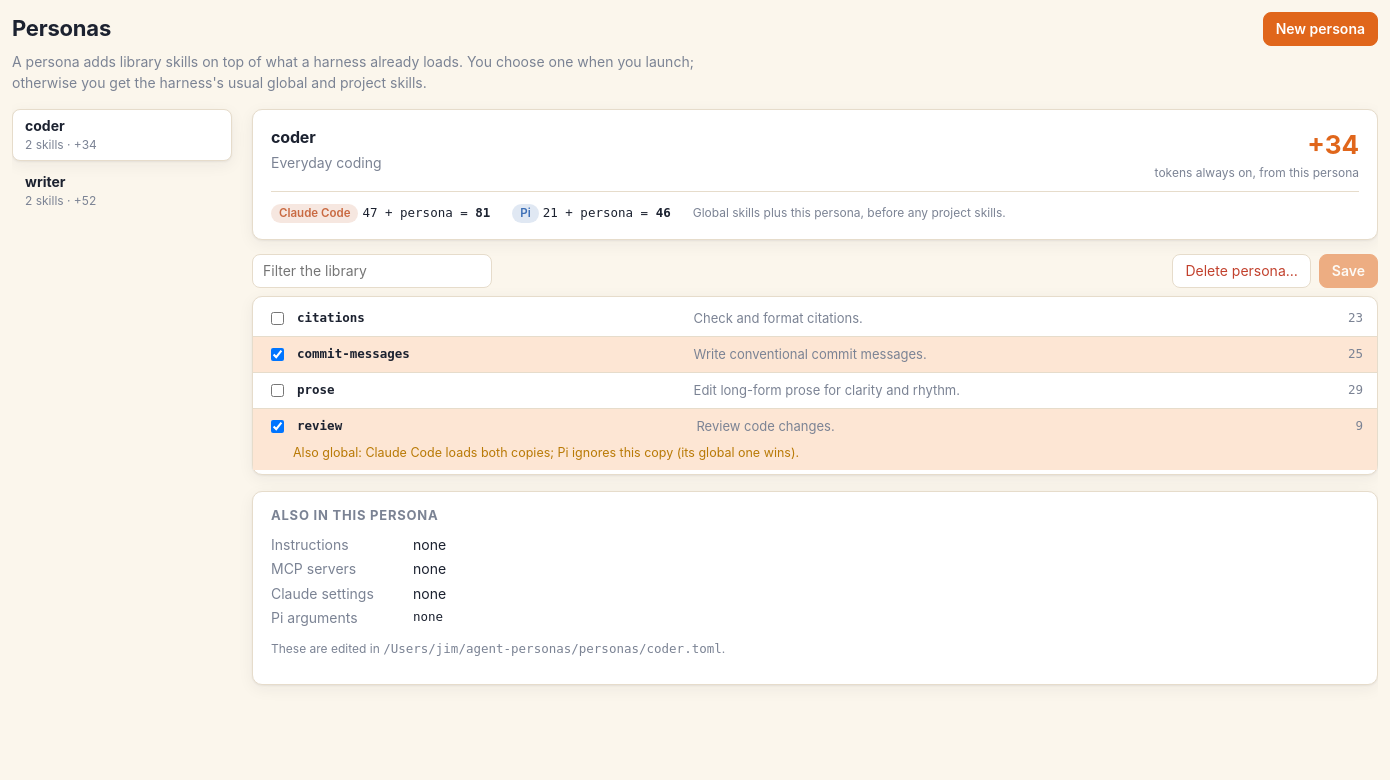
Test case: Personas › deletes a persona after a preview, then selects the next one
Step 1. Click the button "Delete persona…" → (1242,271), box [1172,254,1311,288]
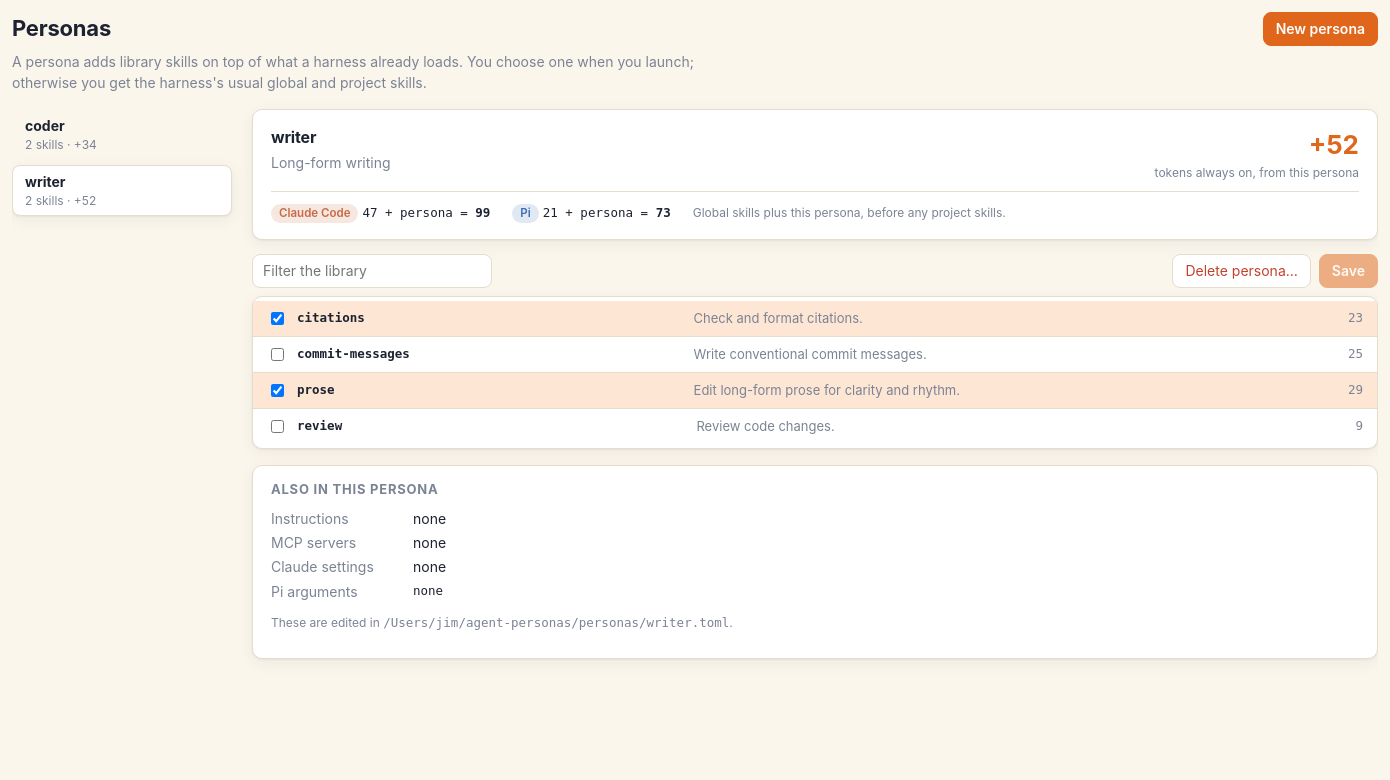
Expected: the heading "writer" is shown, [271,127,316,147]
